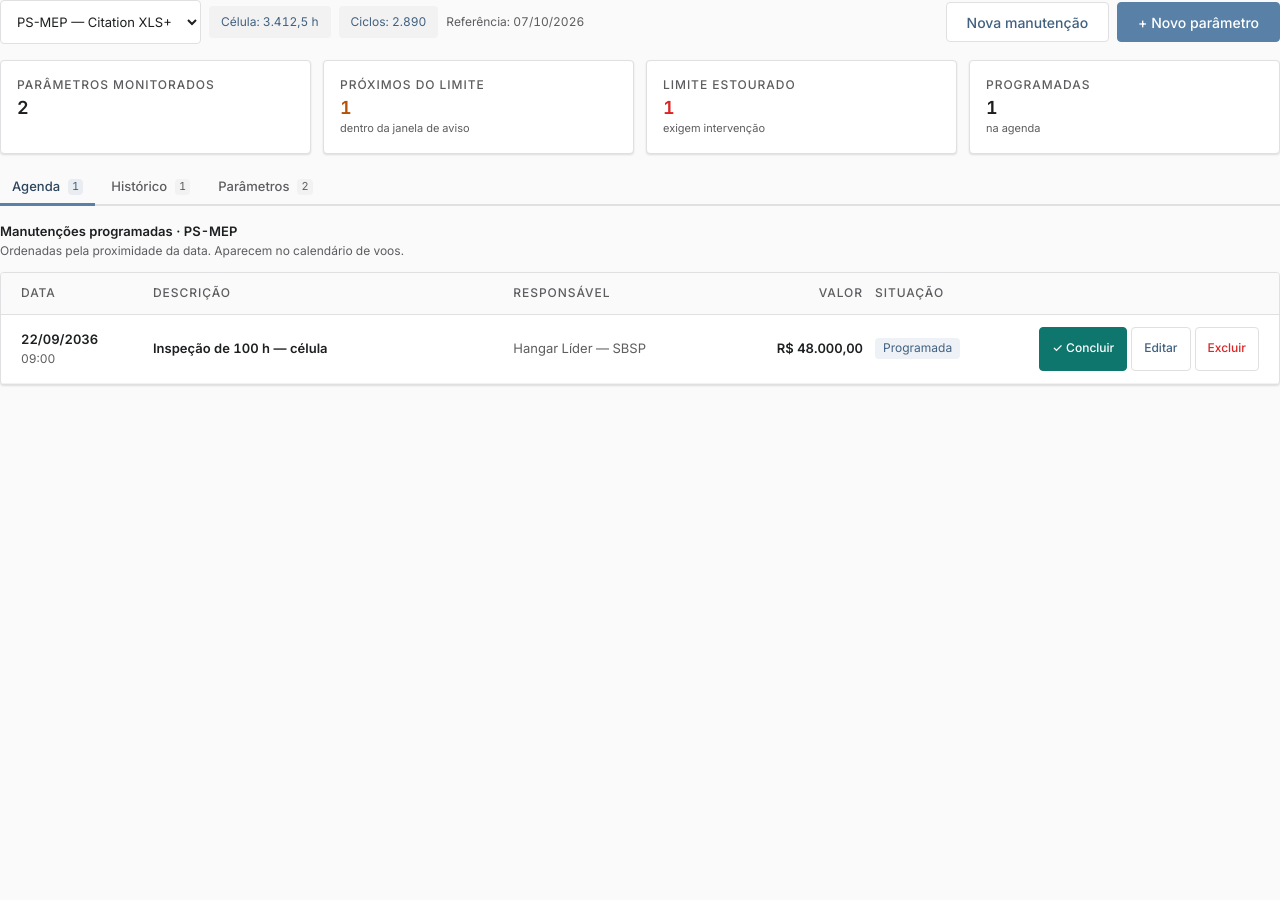
PaginaDeManutencao › o painel de parâmetro troca a régua com o tipo
The width and height of the screenshot is (1280, 900).
Expected: the text "Inspeção de 100 h — célula" is shown, [153, 340, 328, 356]
Click the button "+ Novo parâmetro".
click(1199, 22)  # box [1117, 2, 1279, 42]
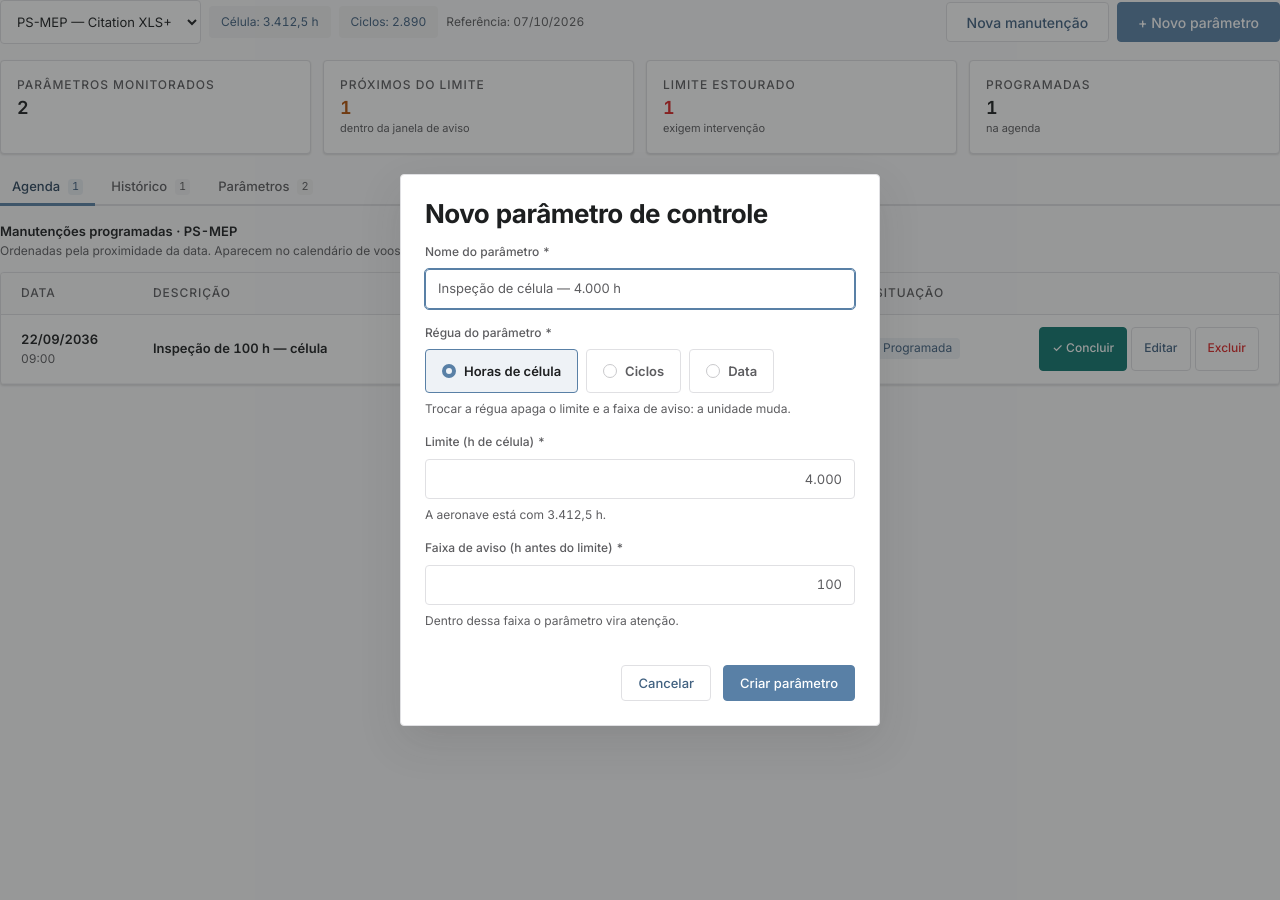
Click the radio button labelled "Data".
click(732, 371)  # box [689, 349, 774, 393]
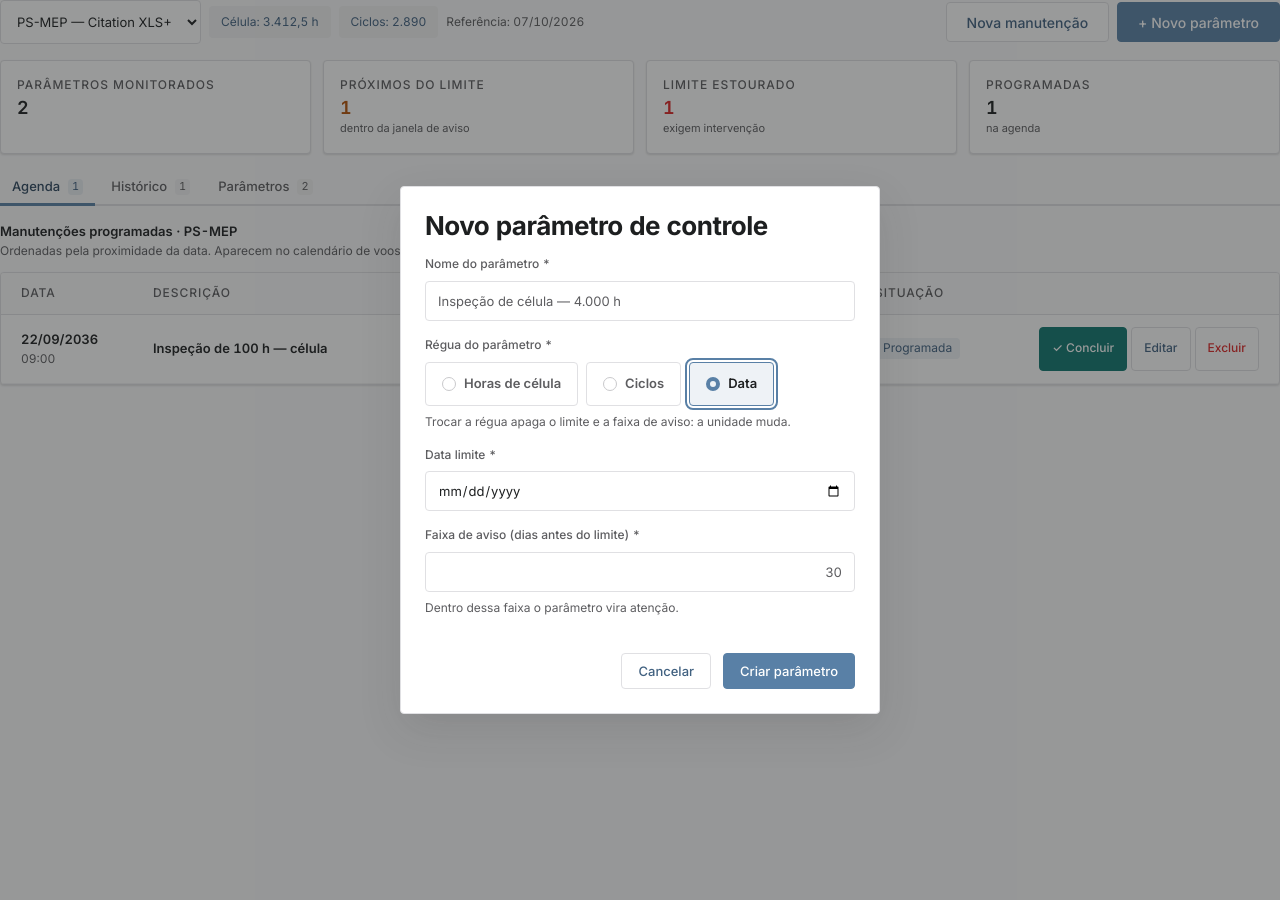
Result: the date field labelled "Data limite" is shown at [425, 471, 855, 511]
Result: the label labelled "Limite (h de célula)" is gone
